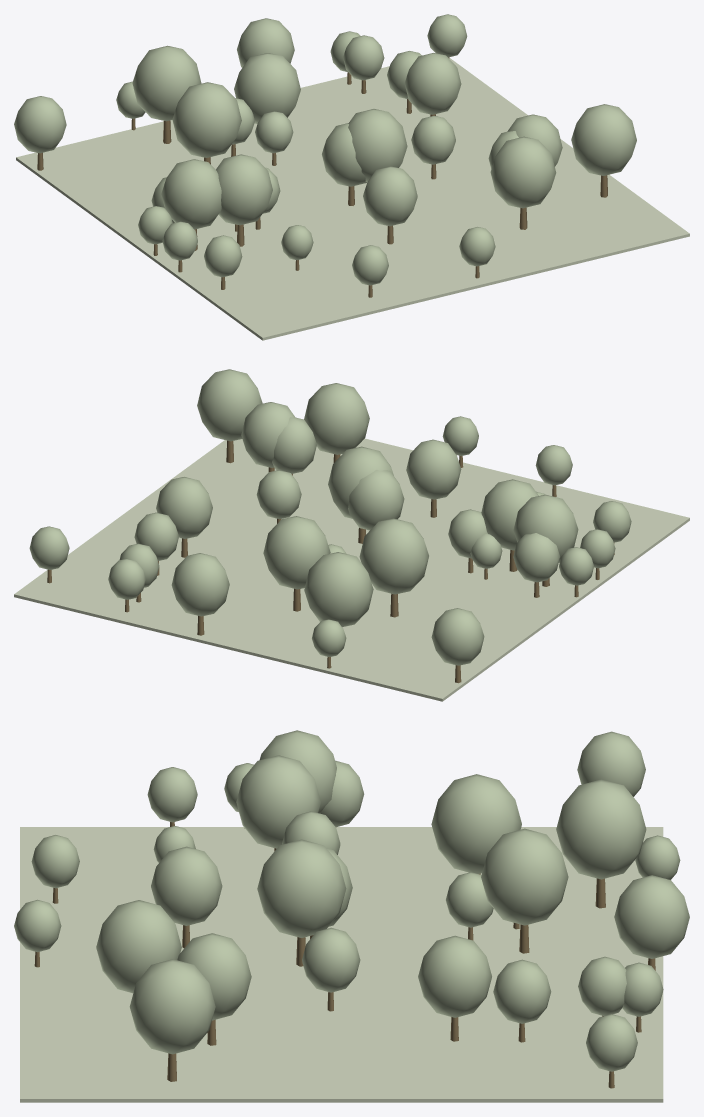
The picture shows the model from 3 angles, top to bottom: view 1: azimuth 30°, elevation 25°; view 2: azimuth 150°, elevation 25°; view 3: azimuth 270°, elevation 25°; orthographic projection. The views are drawn at different scales.
Parts seen in each view (by area): view 1: terrain, lod-near-6, lod-near-23, lod-near-12, lod-near-25, lod-near-1, lod-near-21, lod-near-11, lod-near-2, lod-near-29, lod-near-19, lod-near-0 (+17 smaller); view 2: terrain, lod-near-6, lod-near-25, lod-near-12, lod-near-21, lod-near-23, lod-near-17, lod-near-19, lod-near-1, lod-near-29, lod-near-20, lod-near-0 (+18 smaller); view 3: terrain, lod-near-25, lod-near-2, lod-near-21, lod-near-23, lod-near-6, lod-near-12, lod-near-11, lod-near-17, lod-near-29, lod-near-19, lod-near-14 (+16 smaller).
Part boxes in pixels (<box>): terrain: <box>16,58,689,340</box>; lod-near-6: <box>172,82,241,157</box>; lod-near-23: <box>571,104,636,175</box>; lod-near-12: <box>490,136,556,208</box>; lod-near-25: <box>132,45,201,121</box>; lod-near-1: <box>161,159,221,229</box>; lod-near-21: <box>234,53,300,123</box>; lod-near-11: <box>216,154,272,225</box>; lod-near-2: <box>348,109,407,181</box>; lod-near-29: <box>404,53,461,114</box>; lod-near-19: <box>363,166,417,226</box>; lod-near-0: <box>14,96,66,153</box>; terrain: <box>14,438,689,701</box>; lod-near-6: <box>359,518,428,594</box>; lod-near-25: <box>304,552,373,627</box>; lod-near-12: <box>304,383,369,454</box>; lod-near-21: <box>263,516,330,589</box>; lod-near-23: <box>197,369,262,441</box>; lod-near-17: <box>171,553,229,616</box>; lod-near-19: <box>406,439,461,499</box>; lod-near-1: <box>513,494,578,562</box>; lod-near-29: <box>156,477,212,538</box>; lod-near-20: <box>348,470,404,530</box>; lod-near-0: <box>431,608,484,665</box>; terrain: <box>20,827,663,1102</box>; lod-near-25: <box>556,779,646,879</box>; lod-near-2: <box>257,839,346,937</box>; lod-near-21: <box>481,828,568,925</box>; lod-near-23: <box>129,959,215,1054</box>; lod-near-6: <box>431,774,521,873</box>; lod-near-12: <box>96,900,181,993</box>; lod-near-11: <box>236,755,320,848</box>; lod-near-17: <box>614,875,689,958</box>; lod-near-29: <box>418,935,491,1017</box>; lod-near-19: <box>151,846,222,925</box>; lod-near-14: <box>177,933,251,1020</box>.
Size of the model in its own units: 33.49 by 7.12 by 33.62.
